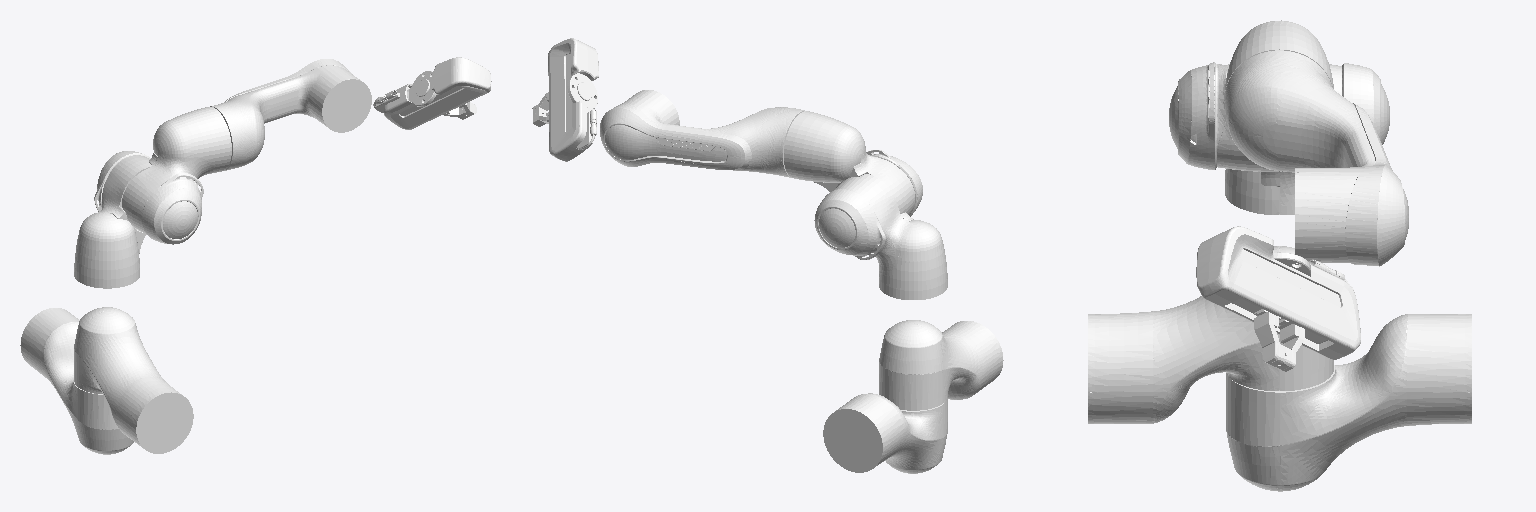
The robot description file, URDF, robot "fr3":
<?xml version="1.0" ?>
<!-- =================================================================================== -->
<!-- |    This document was autogenerated by xacro from /workspaces/src/franka_description/robots/fr3/fr3.urdf.xacro | -->
<!-- |    EDITING THIS FILE BY HAND IS NOT RECOMMENDED                                 | -->
<!-- =================================================================================== -->
<robot name="fr3">
<mujoco> <compiler discardvisual="false"/> </mujoco>
  <!-- safety_distance: Minimum safety distance in [m] by which the collision volumes are expanded and which is enforced during robot motions -->
  <!-- arm_id: Namespace of the robot arm. Serves to differentiate between arms in case of multiple instances. -->
  <!-- joint_limits: description of the joint limits that comes from a YAML file. Example definition: ${xacro.load_yaml('$(find franka_description)/robots/fr3/joint_limits.yaml')} -->
  <!-- kinematics: description of the kinematics that comes from a YAML file. Example definition: ${xacro.load_yaml('$(find franka_description)/robots/fr3/kinematics.yaml')} -->
  <!-- inertials: description of the inertials that comes from a YAML file. Example definition: ${xacro.load_yaml('$(find franka_description)/robots/fr3/inertials.yaml')} -->
  <!-- dynamics: description of the dynamics that comes from a YAML file. Example definition: ${xacro.load_yaml('$(find franka_description)/robots/fr3/dynamics.yaml')} -->
  <link name="base">
      </link>
  <joint name="base_joint" type="fixed">
    <parent link="base"/>
    <child link="link0"/>
    <origin rpy="0 0 0" xyz="0 0 0"/>
  </joint>
  <!-- sub-link defining detailed meshes for collision with environment -->
  <link name="link0">
    <visual name="link0_visual">
        <material name="white">
       <color rgba="1 1 1 1"/>
    </material>
      <geometry>
        <mesh filename="link0.obj"/>
      </geometry>
    </visual>
    <collision name="link0_collision">
      <geometry>
        <mesh filename="link0.stl"/>
      </geometry>
    </collision>
    <inertial>
      <origin rpy="0 0 0" xyz="-0.0172 0.0004 0.0745"/>
      <mass value="2.3966"/>
      <inertia ixx="0.009" ixy="0.0" ixz="0.002" iyy="0.0115" iyz="0.0" izz="0.0085"/>
    </inertial>
  </link>
  <link name="link0_accelerometer_top">
      </link>
  <joint name="link0_accelerometer_top_joint" type="fixed">
    <origin rpy="3.14159 0 0" xyz="0 0 0.05"/>
    <parent link="link0"/>
    <child link="link0_accelerometer_top"/>
  </joint>
  <link name="link0_accelerometer_bottom">
      </link>
  <joint name="link0_accelerometer_bottom_joint" type="fixed">
    <origin rpy="0 0 0" xyz="0 0 0.06"/>
    <parent link="link0"/>
    <child link="link0_accelerometer_bottom"/>
  </joint>
  <!-- sub-link defining detailed meshes for collision with environment -->
  <link name="link1">
    <visual name="link1_visual">
    <material name="white">
       <color rgba="1 1 1 1"/>
    </material>
      <geometry>
        <mesh filename="link1.obj"/>
      </geometry>
    </visual>
    <collision name="link1_collision">
      <geometry>
        <mesh filename="link1.stl"/>
      </geometry>
    </collision>
    <inertial>
      <origin rpy="0 0 0" xyz="0.0000004128 -0.0181251324 -0.0386035970"/>
      <mass value="2.9274653454"/>
      <inertia ixx="0.023927316485107913" ixy="1.3317903455714081e-05" ixz="-0.00011404774918616684" iyy="0.0224821613275756" iyz="-0.0019950320628240115" izz="0.006350098258530016"/>
    </inertial>
  </link>
  <link name="link1_accelerometer_top">
      </link>
  <joint name="link1_accelerometer_top_joint" type="fixed">
    <origin rpy="1.5708 0 0" xyz="0 -0.1 0.0"/>
    <parent link="link1"/>
    <child link="link1_accelerometer_top"/>
  </joint>
  <link name="link1_accelerometer_bottom">
      </link>
  <joint name="link1_accelerometer_bottom_joint" type="fixed">
    <origin rpy="-1.5708 0 0" xyz="0 -0.09 0.0"/>
    <parent link="link1"/>
    <child link="link1_accelerometer_bottom"/>
  </joint>
  <joint name="joint1" type="revolute">
    <origin rpy="0 0 0" xyz="0 0 0.333"/>
    <parent link="link0"/>
    <child link="link1"/>
    <axis xyz="0 0 1"/>
    <limit effort="87.0" lower="-2.9007" upper="2.9007" velocity="2.62"/>
    <safety_controller k_position="100.0" k_velocity="40.0" soft_lower_limit="-2.9007" soft_upper_limit="2.9007"/>
    <position_based_velocity_limits deceleration_limit="6.0" velocity_offset="0.652"/>
    <dynamics D="1" K="7000" damping="0.003" friction="0.2" mu_coulomb="0" mu_viscous="16"/>
  </joint>
  <!-- sub-link defining detailed meshes for collision with environment -->
  <link name="link2">
    <visual name="link2_visual">
    <material name="white">
       <color rgba="1 1 1 1"/>
    </material>
      <geometry>
        <mesh filename="link2.obj"/>
      </geometry>
    </visual>
    <collision name="link2_collision">
      <geometry>
        <mesh filename="link2.stl"/>
      </geometry>
    </collision>
    <inertial>
      <origin rpy="0 0 0" xyz="0.0031828864 -0.0743221644 0.0088146084"/>
      <mass value="2.9355370338"/>
      <inertia ixx="0.041938946257609425" ixy="0.00020257331521090626" ixz="0.004077784227179924" iyy="0.02514514885014724" iyz="-0.0042252158006570156" izz="0.06170214472888839"/>
    </inertial>
  </link>
  <link name="link2_accelerometer_top">
      </link>
  <joint name="link2_accelerometer_top_joint" type="fixed">
    <origin rpy="-1.5708 0 0" xyz="0 -0.13 0"/>
    <parent link="link2"/>
    <child link="link2_accelerometer_top"/>
  </joint>
  <link name="link2_accelerometer_bottom">
      </link>
  <joint name="link2_accelerometer_bottom_joint" type="fixed">
    <origin rpy="1.5708 0 0" xyz="0 -0.14 0"/>
    <parent link="link2"/>
    <child link="link2_accelerometer_bottom"/>
  </joint>
  <joint name="joint2" type="revolute">
    <origin rpy="-1.570796326794897 0 0" xyz="0 0 0"/>
    <parent link="link1"/>
    <child link="link2"/>
    <axis xyz="0 0 1"/>
    <limit effort="87.0" lower="-1.8361" upper="1.8361" velocity="2.62"/>
    <safety_controller k_position="100.0" k_velocity="40.0" soft_lower_limit="-1.8361" soft_upper_limit="1.8361"/>
    <position_based_velocity_limits deceleration_limit="2.585" velocity_offset="0.25"/>
    <dynamics D="1" K="7000" damping="0.003" friction="0.2" mu_coulomb="0" mu_viscous="16"/>
  </joint>
  <!-- sub-link defining detailed meshes for collision with environment -->
  <link name="link3">
    <visual name="link3_visual">
        <material name="white">
       <color rgba="1 1 1 1"/>
    </material>
      <geometry>
        <mesh filename="link3.obj"/>
      </geometry>
    </visual>
    <collision name="link3_collision">
      <geometry>
        <mesh filename="link3.stl"/>
      </geometry>
    </collision>
    <inertial>
      <origin rpy="0 0 0" xyz="0.0407015686 -0.0048200565 -0.0289730823"/>
      <mass value="2.2449013699"/>
      <inertia ixx="0.02410142547240885" ixy="0.002404694559042109" ixz="-0.002856269270114313" iyy="0.01974053266708178" iyz="-0.002104212683891874" izz="0.019044494482244823"/>
    </inertial>
  </link>
  <link name="link3_accelerometer_top">
      </link>
  <joint name="link3_accelerometer_top_joint" type="fixed">
    <origin rpy="-1.5708 0 0" xyz="0.0825 0.05 0"/>
    <parent link="link3"/>
    <child link="link3_accelerometer_top"/>
  </joint>
  <link name="link3_accelerometer_bottom">
      </link>
  <joint name="link3_accelerometer_bottom_joint" type="fixed">
    <origin rpy="1.5708 0 0" xyz="0.0825 0.04 0"/>
    <parent link="link3"/>
    <child link="link3_accelerometer_bottom"/>
  </joint>
  <joint name="joint3" type="revolute">
    <origin rpy="1.570796326794897 0 0" xyz="0 -0.316 0"/>
    <parent link="link2"/>
    <child link="link3"/>
    <axis xyz="0 0 1"/>
    <limit effort="87.0" lower="-2.9007" upper="2.9007" velocity="2.62"/>
    <safety_controller k_position="100.0" k_velocity="40.0" soft_lower_limit="-2.9007" soft_upper_limit="2.9007"/>
    <position_based_velocity_limits deceleration_limit="3.5" velocity_offset="0.2005"/>
    <dynamics D="1" K="7000" damping="0.003" friction="0.2" mu_coulomb="0" mu_viscous="16"/>
  </joint>
  <!-- sub-link defining detailed meshes for collision with environment -->
  <link name="link4">
    <visual name="link4_visual">
        <material name="white">
       <color rgba="1 1 1 1"/>
    </material>
      <geometry>
        <mesh filename="link4.obj"/>
      </geometry>
    </visual>
    <collision name="link4_collision">
      <geometry>
        <mesh filename="link4.stl"/>
      </geometry>
    </collision>
    <inertial>
      <origin rpy="0 0 0" xyz="-0.0459100965 0.0630492960 -0.0085187868"/>
      <mass value="2.6155955791"/>
      <inertia ixx="0.03452998321913202" ixy="0.01322552265982813" ixz="0.01015142998484113" iyy="0.028881621933049058" iyz="-0.0009762833870704552" izz="0.04125471171146641"/>
    </inertial>
  </link>
  <link name="link4_accelerometer_top">
      </link>
  <joint name="link4_accelerometer_top_joint" type="fixed">
    <origin rpy="1.5708 0 0" xyz="-0.0825 0.05 0"/>
    <parent link="link4"/>
    <child link="link4_accelerometer_top"/>
  </joint>
  <link name="link4_accelerometer_bottom">
      </link>
  <joint name="link4_accelerometer_bottom_joint" type="fixed">
    <origin rpy="-1.5708 0 0" xyz="-0.0825 0.06 0"/>
    <parent link="link4"/>
    <child link="link4_accelerometer_bottom"/>
  </joint>
  <joint name="joint4" type="revolute">
    <origin rpy="1.570796326794897 0 0" xyz="0.0825 0 0"/>
    <parent link="link3"/>
    <child link="link4"/>
    <axis xyz="0 0 1"/>
    <limit effort="87.0" lower="-3.077" upper="-0.1169" velocity="2.62"/>
    <safety_controller k_position="100.0" k_velocity="40.0" soft_lower_limit="-3.077" soft_upper_limit="-0.1169"/>
    <position_based_velocity_limits deceleration_limit="4.0" velocity_offset="0.3542"/>
    <dynamics D="1" K="7000" damping="0.003" friction="0.2" mu_coulomb="0" mu_viscous="16"/>
  </joint>
  <!-- sub-link defining detailed meshes for collision with environment -->
  <link name="link5">
    <visual name="link5_visual">
        <material name="white">
       <color rgba="1 1 1 1"/>
    </material>
      <geometry>
        <mesh filename="link5.obj"/>
      </geometry>
    </visual>
    <collision name="link5_collision">
      <geometry>
        <mesh filename="link5.stl"/>
      </geometry>
    </collision>
    <inertial>
      <origin rpy="0 0 0" xyz="-0.0016039605 0.0292536262 -0.0972965990"/>
      <mass value="2.3271207594"/>
      <inertia ixx="0.051610278463662895" ixy="-0.005715173387783472" ixz="-0.0035673167625872135" iyy="0.04787729713371481" iyz="0.010673985108535986" izz="0.016423625579357254"/>
    </inertial>
  </link>
  <link name="link5_accelerometer_top">
      </link>
  <joint name="link5_accelerometer_top_joint" type="fixed">
    <origin rpy="-1.5708 0 0" xyz="0 0.11 0"/>
    <parent link="link5"/>
    <child link="link5_accelerometer_top"/>
  </joint>
  <link name="link5_accelerometer_bottom">
      </link>
  <joint name="link5_accelerometer_bottom_joint" type="fixed">
    <origin rpy="1.5708 0 0" xyz="0 0.1 0"/>
    <parent link="link5"/>
    <child link="link5_accelerometer_bottom"/>
  </joint>
  <joint name="joint5" type="revolute">
    <origin rpy="-1.570796326794897 0 0" xyz="-0.0825 0.384 0"/>
    <parent link="link4"/>
    <child link="link5"/>
    <axis xyz="0 0 1"/>
    <limit effort="12.0" lower="-2.8763" upper="2.8763" velocity="5.26"/>
    <safety_controller k_position="100.0" k_velocity="40.0" soft_lower_limit="-2.8763" soft_upper_limit="2.8763"/>
    <position_based_velocity_limits deceleration_limit="17.0" velocity_offset="0.5738"/>
    <dynamics D="1" K="7000" damping="0.003" friction="0.2" mu_coulomb="0" mu_viscous="16"/>
  </joint>
  <!-- sub-link defining detailed meshes for collision with environment -->
  <link name="link6">
    <visual name="link6_visual">
        <material name="white">
       <color rgba="1 1 1 1"/>
    </material>
      <geometry>
        <mesh filename="link6.obj"/>
      </geometry>
    </visual>
    <collision name="link6_collision">
      <geometry>
        <mesh filename="link6.stl"/>
      </geometry>
    </collision>
    <inertial>
      <origin rpy="0 0 0" xyz="0.0597131221 -0.0410294666 -0.0101692726"/>
      <mass value="1.8170376524"/>
      <inertia ixx="0.005412333594383447" ixy="0.006193456360285834" ixz="0.0014219289306117652" iyy="0.014058329545509979" iyz="-0.0013140753741120031" izz="0.016080817924212554"/>
    </inertial>
  </link>
  <joint name="joint6" type="revolute">
    <origin rpy="1.570796326794897 0 0" xyz="0 0 0"/>
    <parent link="link5"/>
    <child link="link6"/>
    <axis xyz="0 0 1"/>
    <limit effort="12.0" lower="0.4398" upper="4.6216" velocity="4.18"/>
    <safety_controller k_position="100.0" k_velocity="40.0" soft_lower_limit="0.4398" soft_upper_limit="4.6216"/>
    <position_based_velocity_limits deceleration_limit="5.5" velocity_offset="0.4885"/>
    <dynamics D="1" K="7000" damping="0.003" friction="0.2" mu_coulomb="0" mu_viscous="16"/>
  </joint>
  <!-- sub-link defining detailed meshes for collision with environment -->
  <link name="link7">
    <visual name="link7_visual">
        <material name="white">
       <color rgba="1 1 1 1"/>
    </material>
      <geometry>
        <mesh filename="link7.obj"/>
      </geometry>
    </visual>
    <collision name="link7_collision">
      <geometry>
        <mesh filename="link7.stl"/>
      </geometry>
    </collision>
    <inertial>
      <origin rpy="0 0 0" xyz="0.0045225817 0.0086261921 -0.0161633251"/>
      <mass value="0.6271432862"/>
      <inertia ixx="0.00021092389150104718" ixy="-2.433299114461931e-05" ixz="4.564480393778983e-05" iyy="0.00017718568002411474" iyz="8.744070223226438e-05" izz="5.993190599659971e-05"/>
    </inertial>
  </link>
  <joint name="joint7" type="revolute">
    <origin rpy="1.570796326794897 0 0" xyz="0.088 0 0"/>
    <parent link="link6"/>
    <child link="link7"/>
    <axis xyz="0 0 1"/>
    <limit effort="12.0" lower="-3.0508" upper="3.0508" velocity="5.26"/>
    <safety_controller k_position="100.0" k_velocity="40.0" soft_lower_limit="-3.0508" soft_upper_limit="3.0508"/>
    <position_based_velocity_limits deceleration_limit="17.0" velocity_offset="0.4592"/>
    <dynamics D="1" K="7000" damping="0.003" friction="0.2" mu_coulomb="0" mu_viscous="16"/>
  </joint>
  <link name="link8"/>
  <joint name="joint8" type="fixed">
    <origin rpy="0 0 0" xyz="0 0 0.107"/>
    <parent link="link7"/>
    <child link="link8"/>
  </joint>
  <joint name="hand_joint" type="fixed">
    <parent link="link8"/>
    <child link="hand"/>
    <origin rpy="0 0 -0.7853981633974483" xyz="0 0 0"/>
  </joint>
  <!-- sub-link defining detailed meshes for collision with environment -->
  <link name="hand">
    <visual name="hand_visual">
        <material name="white">
       <color rgba="1 1 1 1"/>
    </material>
      <geometry>
        <mesh filename="hand.obj"/>
      </geometry>
    </visual>
    <collision name="hand_collision">
      <geometry>
        <mesh filename="hand.stl"/>
      </geometry>
    </collision>
    <inertial>
      <origin rpy="0 0 0" xyz="-0.0000376 0.0119128 0.0207260"/>
      <mass value="0.6544"/>
      <inertia ixx="0.00186" ixy="0.0" ixz="0.0" iyy="0.0003" iyz="-2e-05" izz="0.00174"/>
    </inertial>
  </link>
  <!-- Define the hand_tcp frame -->
  <link name="hand_tcp"/>
  <joint name="hand_tcp_joint" type="fixed">
    <origin rpy="0 0 0" xyz="0 0 0.1034"/>
    <parent link="hand"/>
    <child link="hand_tcp"/>
  </joint>
  <link name="leftfinger">
    <visual name="leftfinger_visual">
        <material name="white">
       <color rgba="1 1 1 1"/>
    </material>
      <geometry>
        <mesh filename="finger.obj"/>
      </geometry>
    </visual>
    <!-- screw mount -->
    <collision>
      <origin rpy="0 0 0" xyz="0 18.5e-3 11e-3"/>
      <geometry>
        <box size="22e-3 15e-3 20e-3"/>
      </geometry>
    </collision>
    <!-- cartriage sledge -->
    <collision>
      <origin rpy="0 0 0" xyz="0 6.8e-3 2.2e-3"/>
      <geometry>
        <box size="22e-3 8.8e-3 3.8e-3"/>
      </geometry>
    </collision>
    <!-- diagonal finger -->
    <collision>
      <origin rpy="0.5235987755982988 0 0" xyz="0 15.9e-3 28.35e-3"/>
      <geometry>
        <box size="17.5e-3 7e-3 23.5e-3"/>
      </geometry>
    </collision>
    <!-- rubber tip with which to grasp -->
    <collision>
      <origin rpy="0 0 0" xyz="0 7.58e-3 45.25e-3"/>
      <geometry>
        <box size="17.5e-3 15.2e-3 18.5e-3"/>
      </geometry>
    </collision>
    <inertial>
      <origin rpy="0 0 0" xyz="0 0.0152850 0.0219675"/>
      <mass value="0.0291"/>
      <inertia ixx="8.49e-06" ixy="0.0" ixz="0.0" iyy="8.53e-06" iyz="-1.06e-06" izz="1.77e-06"/>
    </inertial>
  </link>
  <link name="rightfinger">
    <visual name="rightfinger_visual">
        <material name="white">
       <color rgba="1 1 1 1"/>
    </material>
      <origin rpy="0 0 0" xyz="0 0 0"/>
      <geometry>
        <mesh filename="finger.obj"/>
      </geometry>
    </visual>
    <!-- screw mount -->
    <collision>
      <origin rpy="0 0 0" xyz="0 18.5e-3 11e-3"/>
      <geometry>
        <box size="22e-3 15e-3 20e-3"/>
      </geometry>
    </collision>
    <!-- cartriage sledge -->
    <collision>
      <origin rpy="0 0 0" xyz="0 6.8e-3 2.2e-3"/>
      <geometry>
        <box size="22e-3 8.8e-3 3.8e-3"/>
      </geometry>
    </collision>
    <!-- diagonal finger -->
    <collision>
      <origin rpy="-0.5235987755982988 0 3.141592653589793" xyz="0 15.9e-3 28.35e-3"/>
      <geometry>
        <box size="17.5e-3 7e-3 23.5e-3"/>
      </geometry>
    </collision>
    <!-- rubber tip with which to grasp -->
    <collision>
      <origin rpy="0 0 0" xyz="0 7.58e-3 45.25e-3"/>
      <geometry>
        <box size="17.5e-3 15.2e-3 18.5e-3"/>
      </geometry>
    </collision>
    <inertial>
      <origin rpy="0 0 0" xyz="0 0.0152850 0.0219675"/>
      <mass value="0.0291"/>
      <inertia ixx="8.49e-06" ixy="0.0" ixz="0.0" iyy="8.53e-06" iyz="-1.06e-06" izz="1.77e-06"/>
    </inertial>
  </link>
  <joint name="finger_joint1" type="prismatic">
    <parent link="hand"/>
    <child link="leftfinger"/>
    <origin rpy="0 0 0" xyz="0 0 0.0584"/>
    <axis xyz="0 1 0"/>
    <limit effort="100" lower="0.0" upper="0.04" velocity="0.2"/>
    <dynamics damping="0.3"/>
  </joint>
  <joint name="finger_joint2" type="prismatic">
    <parent link="hand"/>
    <child link="rightfinger"/>
    <origin rpy="0 0 3.141592653589793" xyz="0 0 0.0584"/>
    <axis xyz="0 1 0"/>
    <limit effort="100" lower="0.0" upper="0.04" velocity="0.2"/>
    <mimic joint="finger_joint1"/>
    <dynamics damping="0.3"/>
  </joint>
</robot>

--- Facts derived from the render (not from the file) ---
Views: 3 orthographic renders of the robot side by side, from view 1: azimuth 30°, elevation 25°; view 2: azimuth 150°, elevation 25°; view 3: azimuth 270°, elevation 25°.
Model fr3 with 26 links and 25 joints (7 revolute, 2 prismatic, 16 fixed), rooted at base, posed all joints at 0 but 2 set to mid-range because 0 is outside their limits (joint4 = -1.6, joint6 = 2.53).
Links seen in each view (by area): view 1: link1, link4, link5, link3, link2, hand; view 2: link5, link3, link1, link2, link4, hand; view 3: link5, link2, link1, hand, link4, link3, leftfinger, rightfinger.
Link boxes in pixels (box(x1,y1,x2,y2)): link1: box(74, 307, 193, 453); link4: box(122, 107, 231, 244); link5: box(210, 59, 371, 170); link3: box(74, 151, 151, 288); link2: box(20, 308, 133, 454); hand: box(373, 57, 491, 129); link5: box(600, 90, 804, 177); link3: box(814, 174, 947, 299); link1: box(879, 320, 1003, 410); link2: box(823, 393, 947, 473); link4: box(784, 111, 922, 216); hand: box(548, 38, 598, 161); link5: box(1225, 50, 1408, 266); link2: box(1226, 314, 1471, 491); link1: box(1088, 246, 1333, 423); hand: box(1196, 226, 1360, 359); link4: box(1169, 20, 1333, 171); link3: box(1225, 63, 1389, 214); leftfinger: box(1254, 309, 1285, 366); rightfinger: box(1276, 319, 1304, 371).
Bounding box of the posed robot: 0.7604 × 0.385 × 0.5889 m (x, y, z).
Meshes: 10 distinct files referenced, 8 mesh visuals loaded (7 OBJ); not drawn: 3 (reference not matched to a file when rendering).